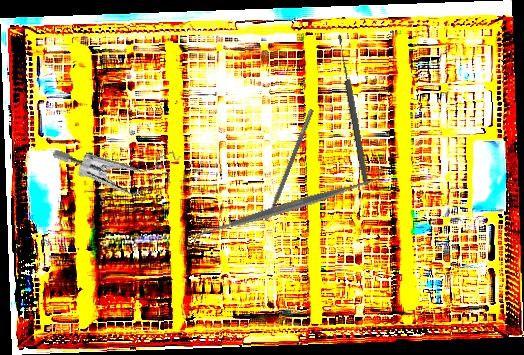Spatula Surgical: (188, 168, 385, 248), (260, 106, 315, 226)
Speculum: (51, 110, 189, 219)
Surgical Spoon: (335, 34, 371, 186)
